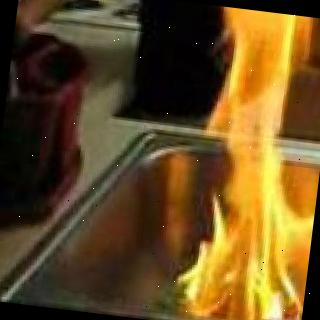fire: (173, 5, 320, 320)
